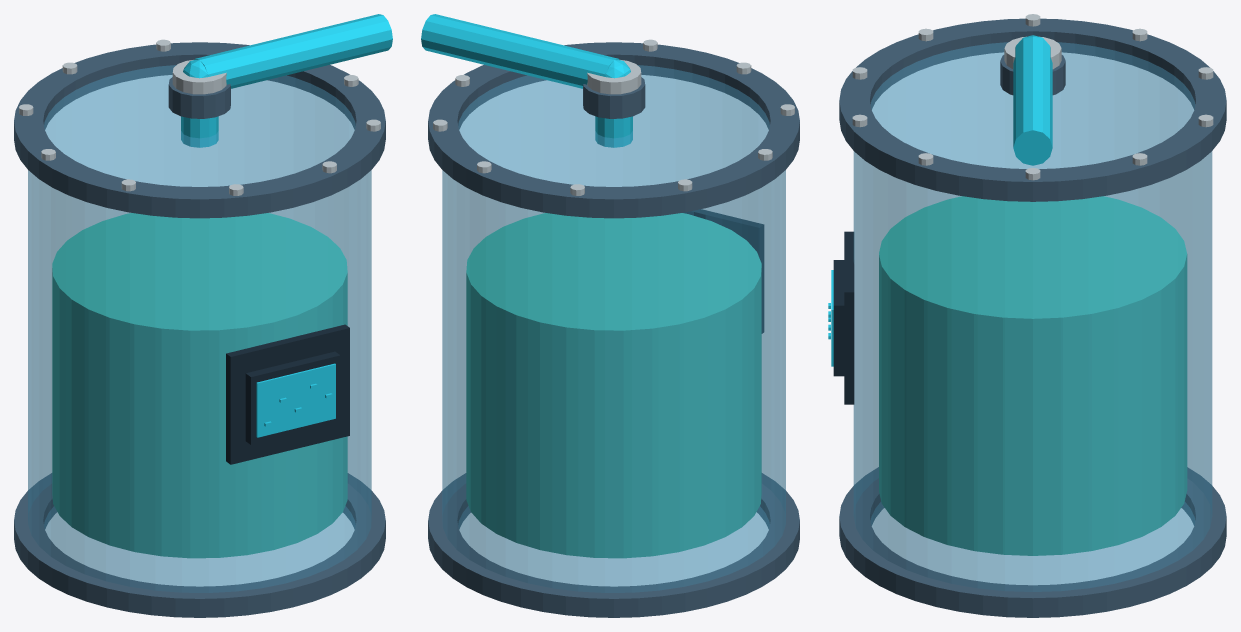
File: 14_L76_VirtualCopperElectrolyteReservoir.fbx
3 views of the same model, side by side, from view 1: azimuth 30°, elevation 25°; view 2: azimuth 150°, elevation 25°; view 3: azimuth 270°, elevation 25° (orthographic). The views are drawn at different scales.
Parts seen in each view (by area): view 1: VirtualCopperElectrolyteReservoir; view 2: VirtualCopperElectrolyteReservoir; view 3: VirtualCopperElectrolyteReservoir.
Boxes of the visible parts, x1,y1,x2,y2 form: VirtualCopperElectrolyteReservoir: (14,14,392,617); VirtualCopperElectrolyteReservoir: (421,14,799,617); VirtualCopperElectrolyteReservoir: (828,14,1226,617).
Bounding box in the file's own units: 190 × 252 × 182.
